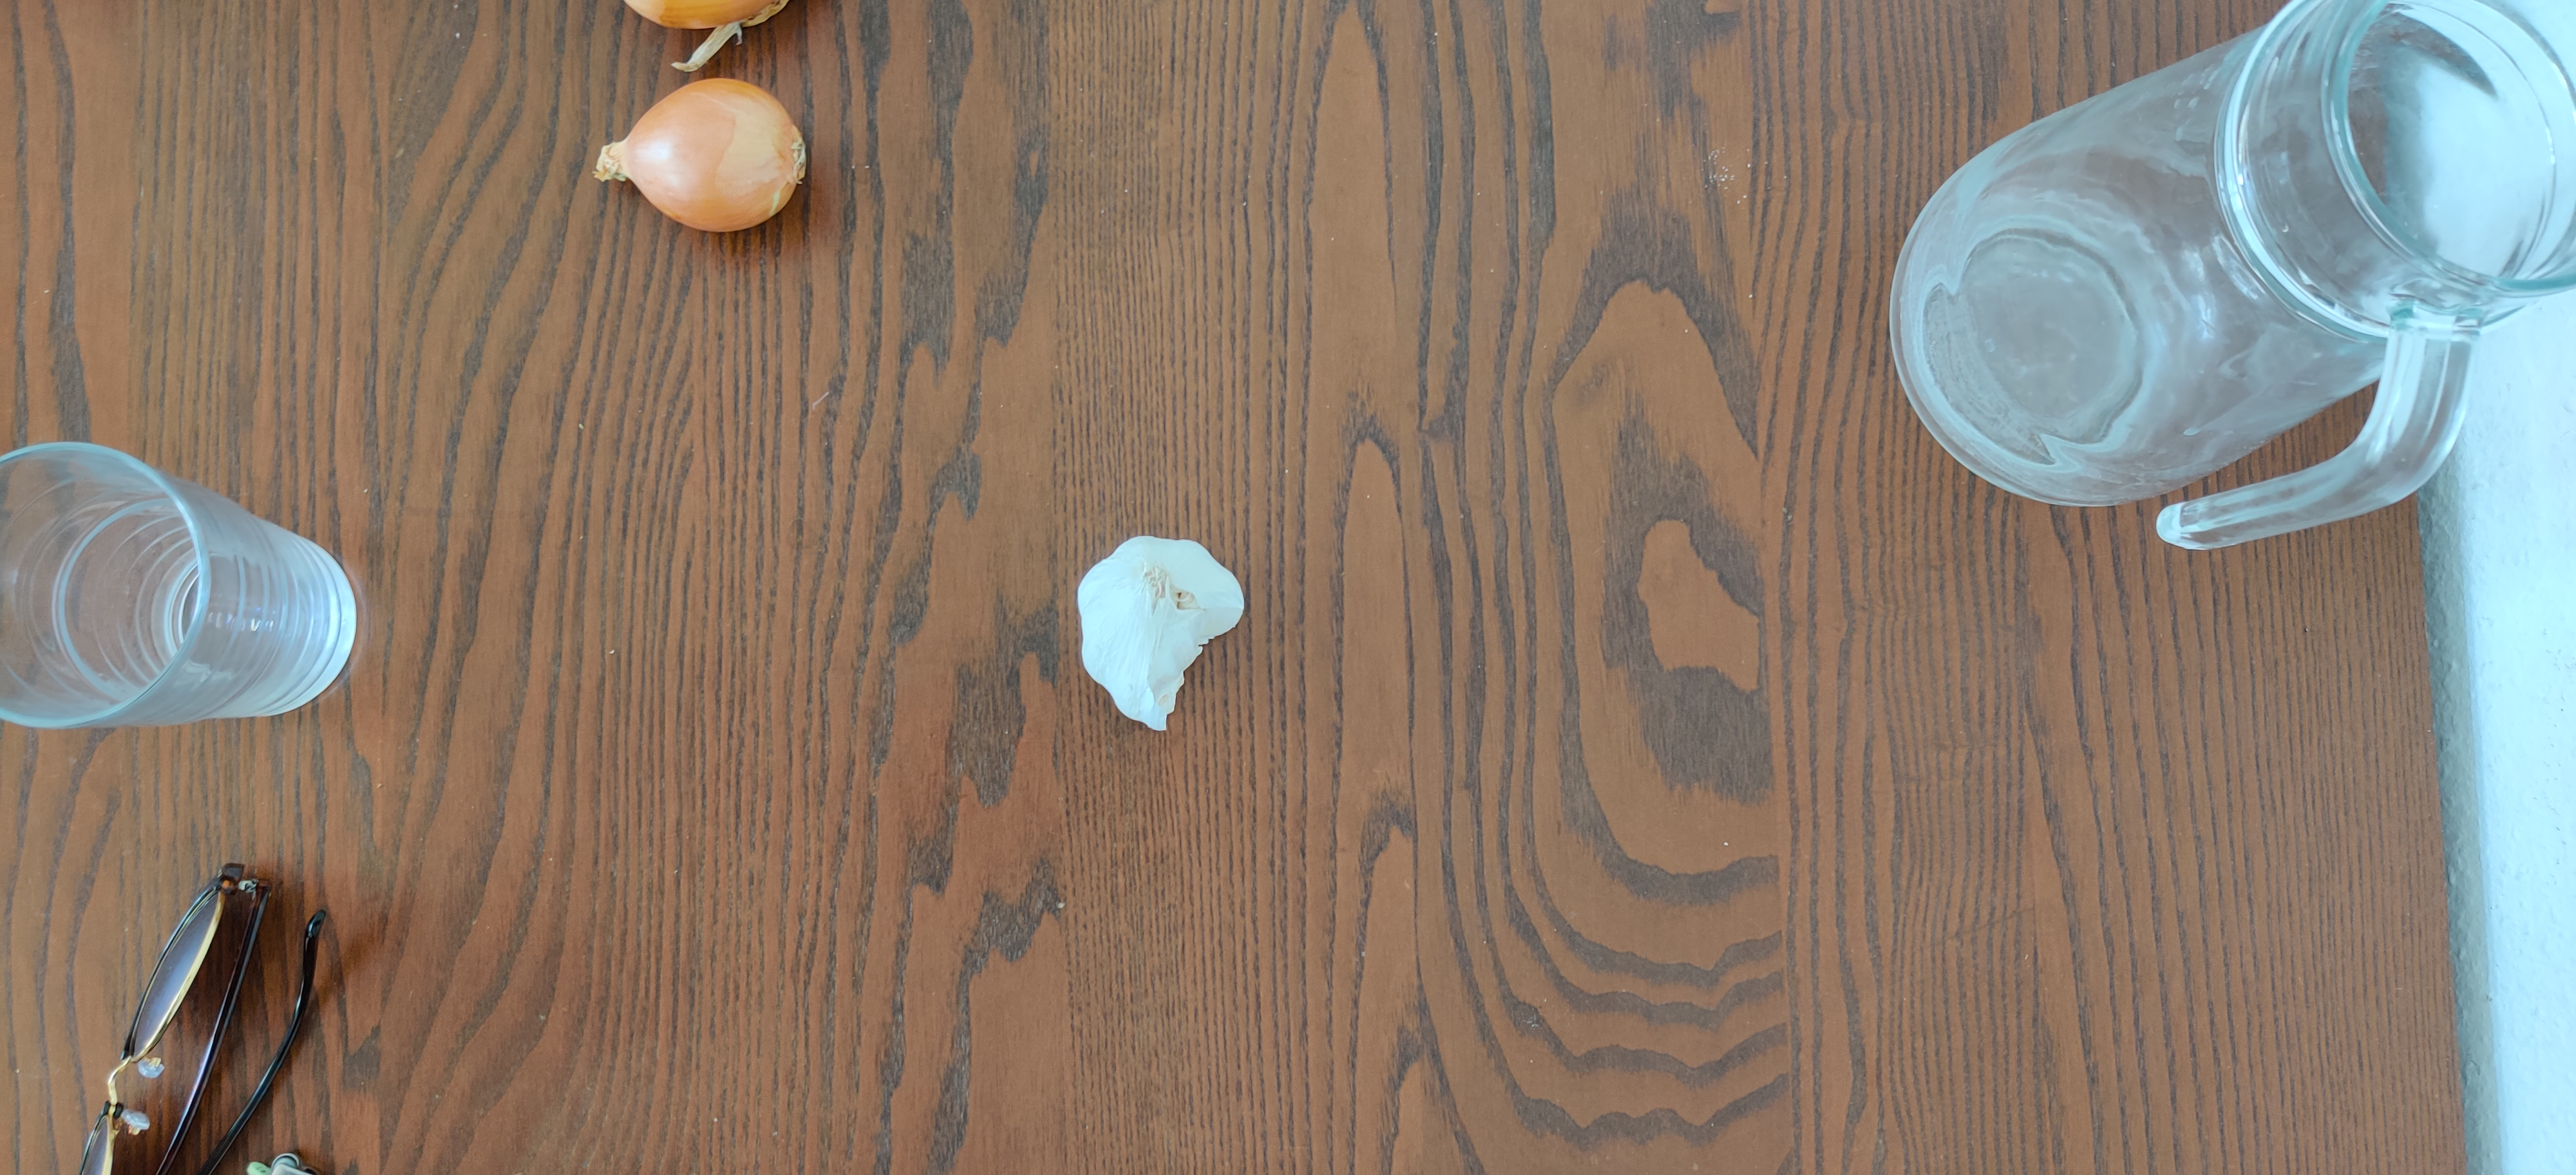Knoblauch: (1074, 536, 1242, 733)
